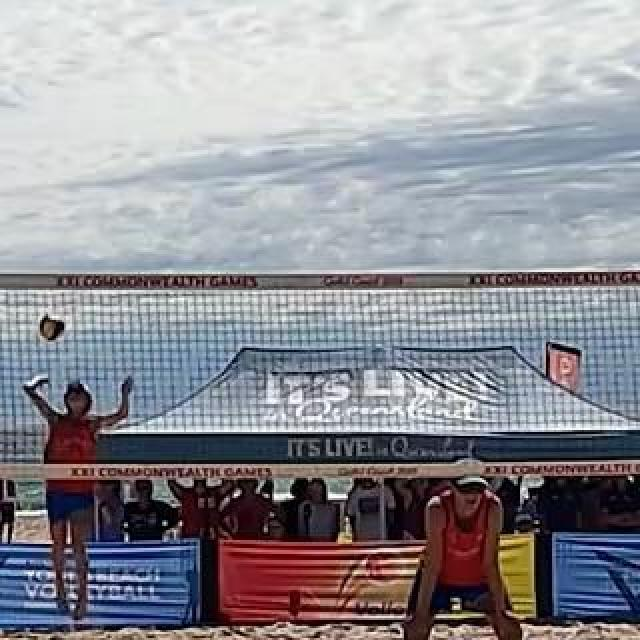volleyball: (38, 314, 64, 340)
